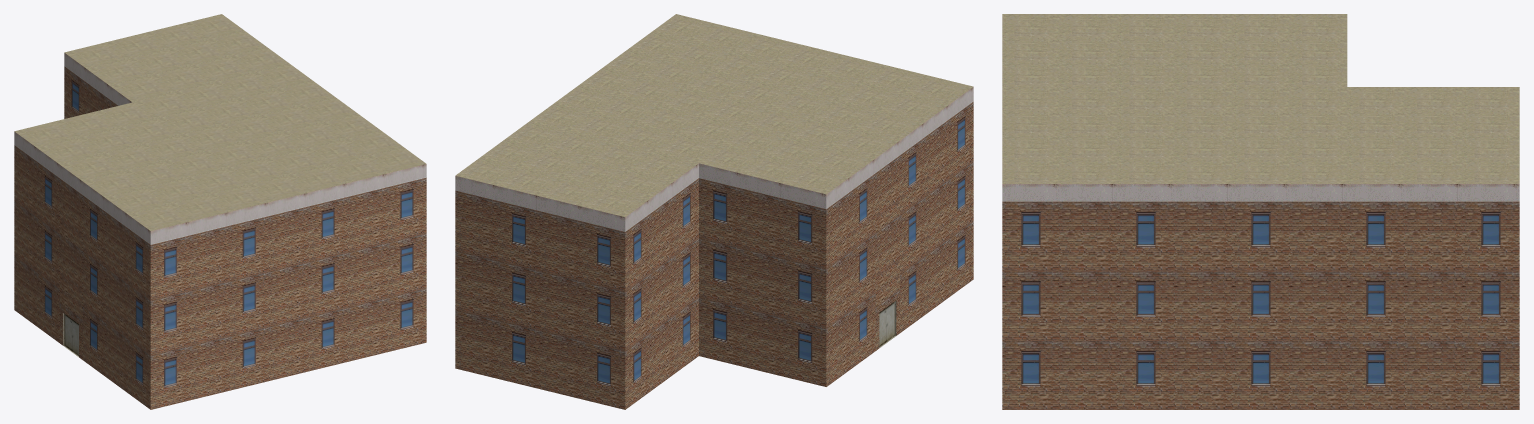
File: flat_Lshape_brick.glb
The picture shows the model from 3 angles, left to right: view 1: azimuth 30°, elevation 25°; view 2: azimuth 150°, elevation 25°; view 3: azimuth 270°, elevation 25°; orthographic projection. The views are drawn at different scales.
Visible parts, largest first — view 1: flat_Lshape_brick; view 2: flat_Lshape_brick; view 3: flat_Lshape_brick.
Boxes of the visible parts, x1=… form: flat_Lshape_brick: x1=14, y1=14, x2=426, y2=409; flat_Lshape_brick: x1=455, y1=14, x2=973, y2=409; flat_Lshape_brick: x1=1002, y1=14, x2=1519, y2=409.
Bounding box in the file's own units: 21 × 13 × 27.
Materials: 1 (1 with a texture image).
